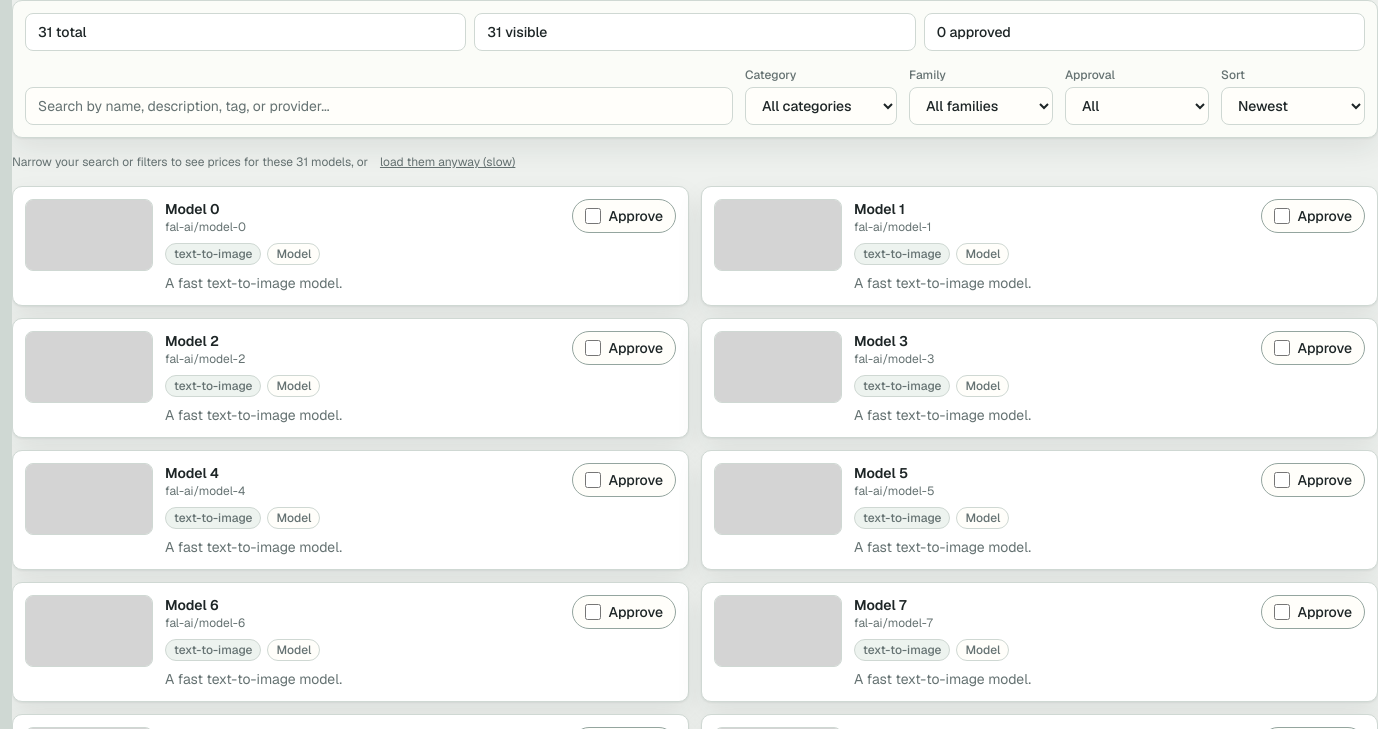
Test: ModelsBrowser (search and filters) › 'load them anyway' works through every chunk, then reverts the button
The width and height of the screenshot is (1378, 729).
Click the button "load them anyway (slow)".
click(448, 162)  # box left=376, top=154, right=519, bottom=170
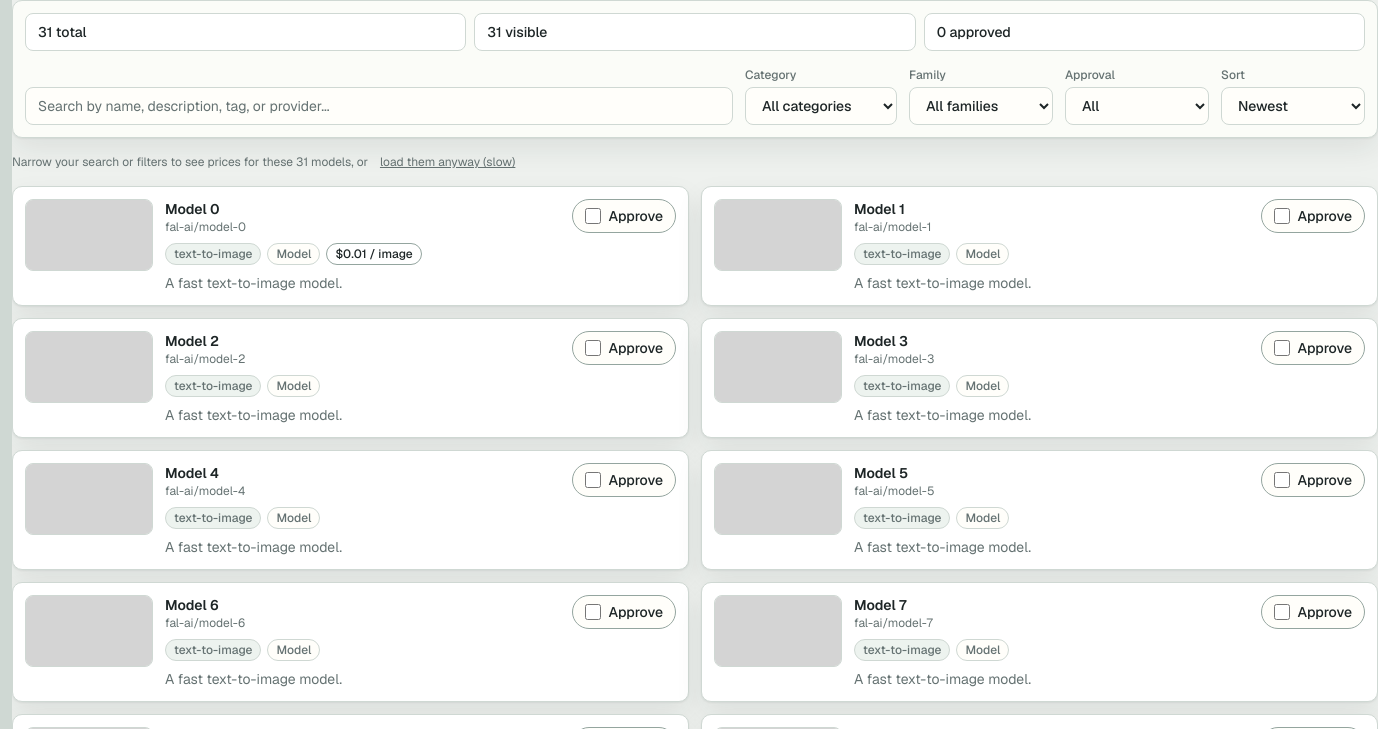
Check: the text "$0.01 / image" is shown, box left=326, top=243, right=422, bottom=265
